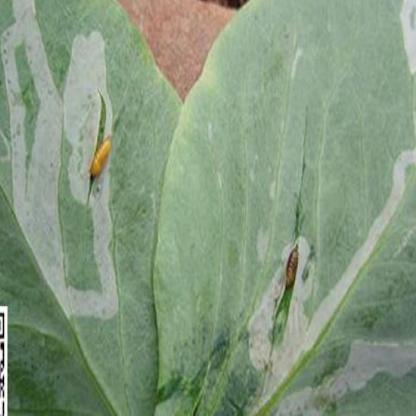whorl-maggot: (88, 128, 113, 191), (282, 237, 304, 294)
